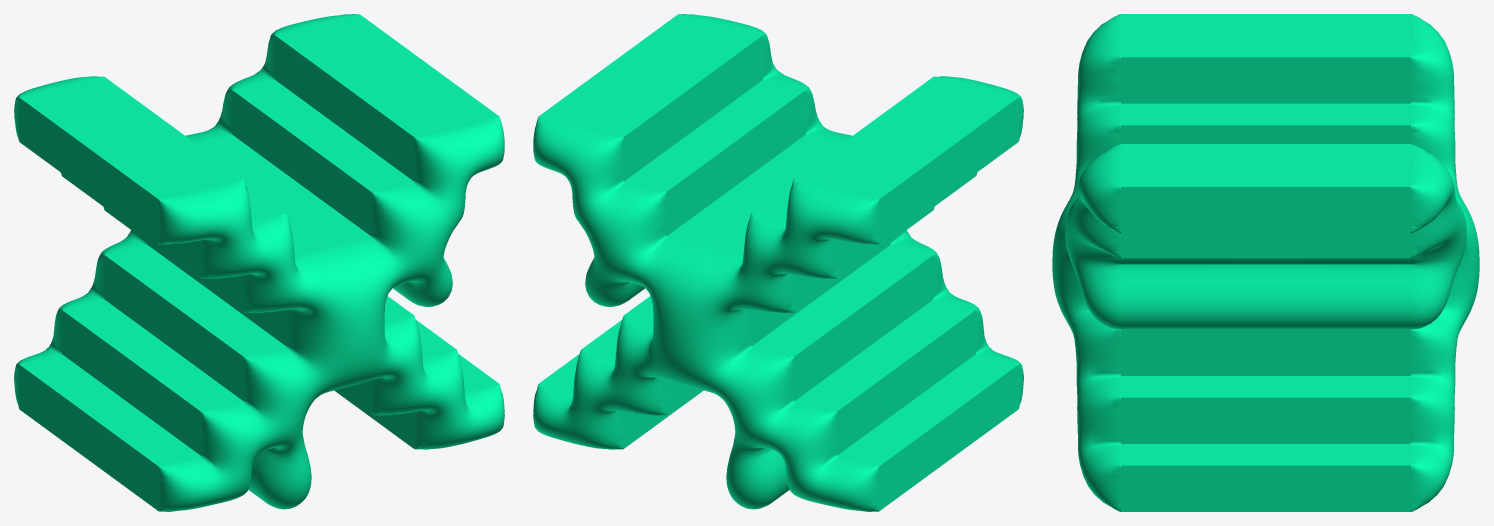
The model's file is V-Snot.gltf.
3 renders of one model, left to right at view 1: azimuth 30°, elevation 25°; view 2: azimuth 150°, elevation 25°; view 3: azimuth 270°, elevation 25°, orthographic. The views are drawn at different scales.
Size of the model in its own units: 0.024 by 0.0227 by 0.025.
